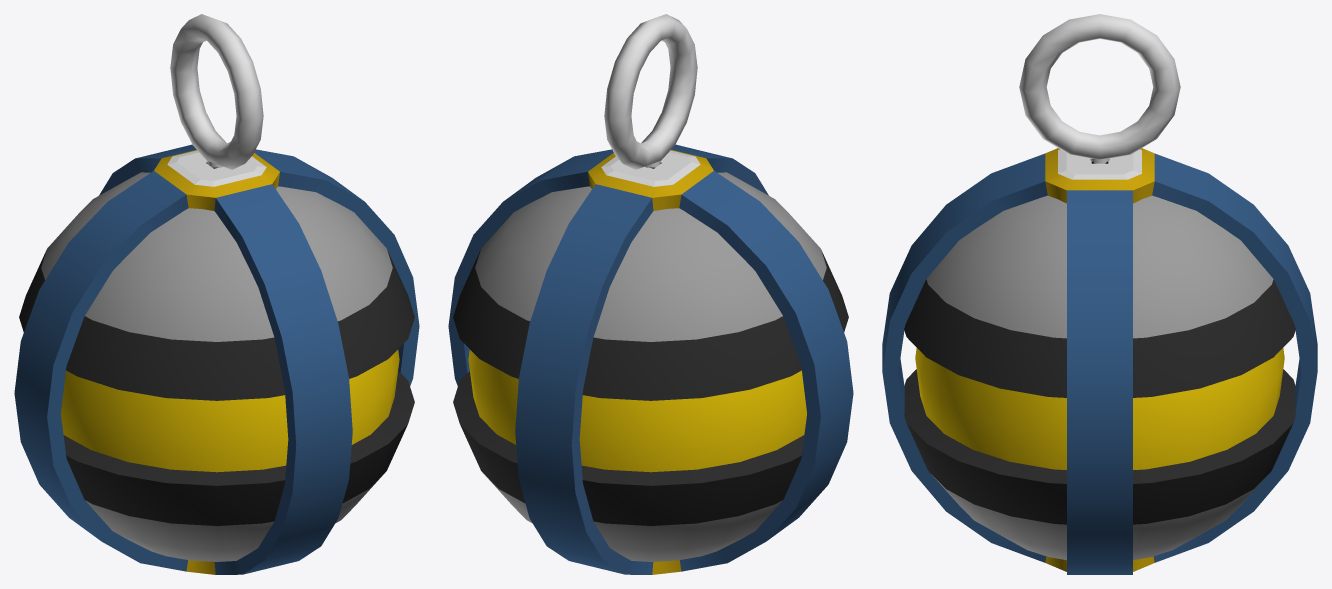
File: BouncyGrenade.FBX
The picture shows the model from 3 angles, left to right: view 1: azimuth 30°, elevation 25°; view 2: azimuth 150°, elevation 25°; view 3: azimuth 270°, elevation 25°; orthographic projection.
Parts seen in each view (by area): view 1: BouncyGrenade, Pin; view 2: BouncyGrenade, Pin; view 3: BouncyGrenade, Pin.
Boxes of the visible parts, x1=… form: BouncyGrenade: x1=14, y1=144, x2=419, y2=574; Pin: x1=170, y1=14, x2=263, y2=169; BouncyGrenade: x1=448, y1=144, x2=853, y2=574; Pin: x1=604, y1=14, x2=697, y2=169; BouncyGrenade: x1=882, y1=148, x2=1317, y2=574; Pin: x1=1019, y1=14, x2=1180, y2=163.
Bounding box in the file's own units: 63.55 × 87.06 × 63.55.
